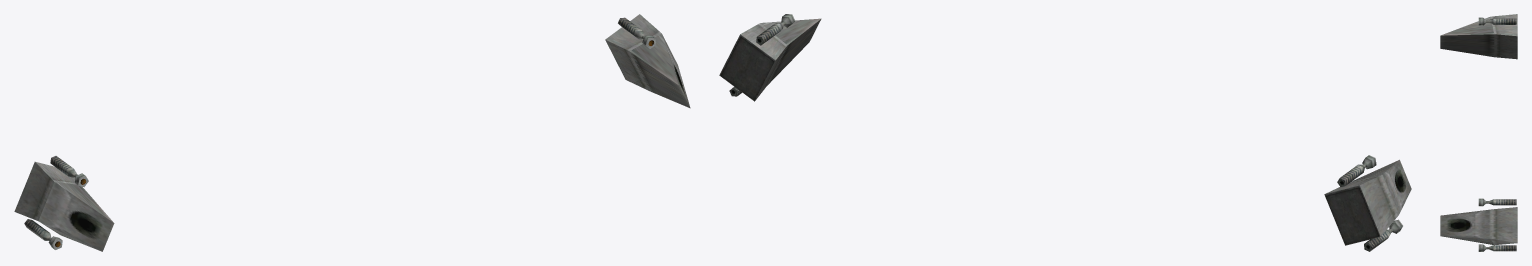
Rendered from hutt_fighter_medium_weapon2_s03_l0.fbx.
3 renders of one model, left to right at view 1: azimuth 30°, elevation 25°; view 2: azimuth 150°, elevation 25°; view 3: azimuth 270°, elevation 25°, orthographic. The views are drawn at different scales.
Visible parts, largest first — view 1: mesh_node; view 2: mesh_node; view 3: mesh_node.
Part boxes in pixels (x1,y1,x2,y2): mesh_node: (14, 14, 690, 251); mesh_node: (719, 14, 1411, 251); mesh_node: (1440, 14, 1517, 251).
Bounding box in the file's own units: 3.25 × 0.3224 × 0.5171.
1 material, 1 textured.
